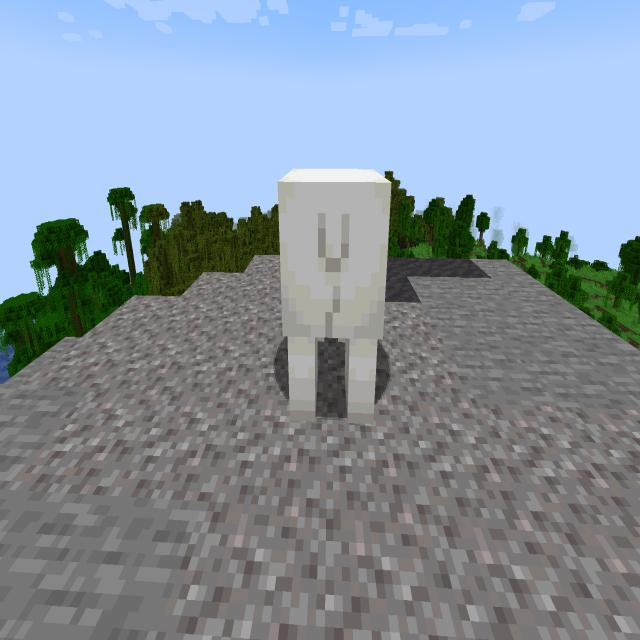Polar Bear: (264, 150, 409, 444)
